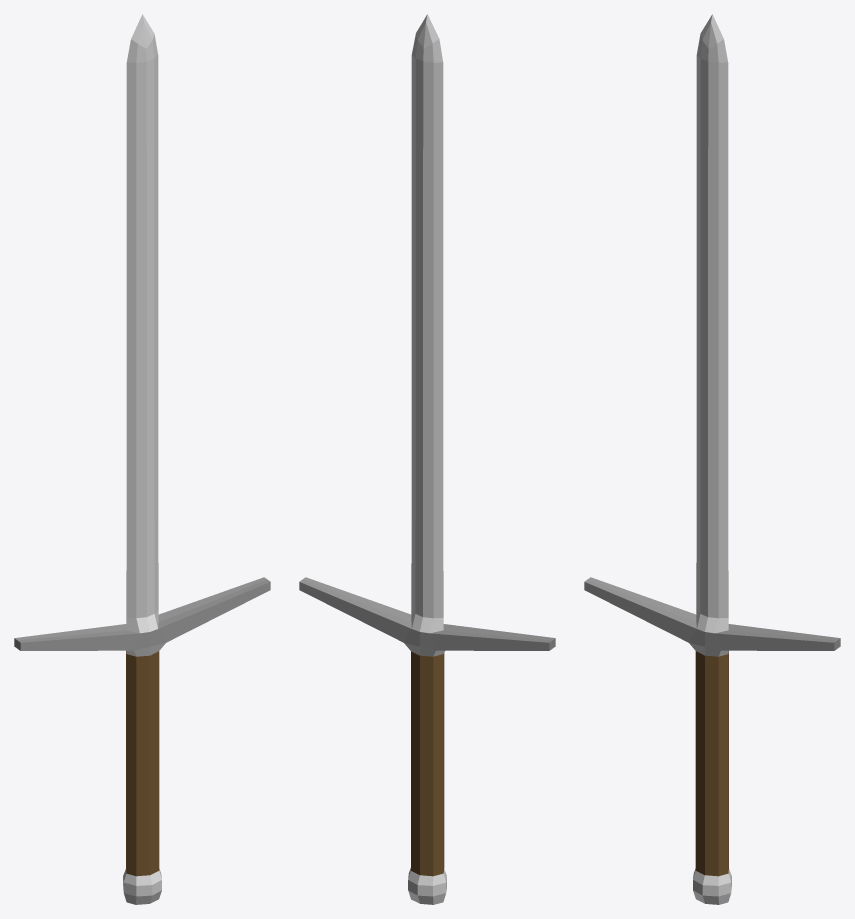
File: ShordSword.fbx
3 views of the same model, side by side, from view 1: azimuth 30°, elevation 25°; view 2: azimuth 150°, elevation 25°; view 3: azimuth 330°, elevation 25° (orthographic).
Visible parts, largest first — view 1: StraightSword; view 2: StraightSword; view 3: StraightSword.
Part boxes in pixels (x1,y1,x2,y2): StraightSword: (14, 14, 270, 904); StraightSword: (299, 14, 555, 904); StraightSword: (584, 14, 840, 904).
Size of the model in its own units: 37.32 by 126 by 5.07.
